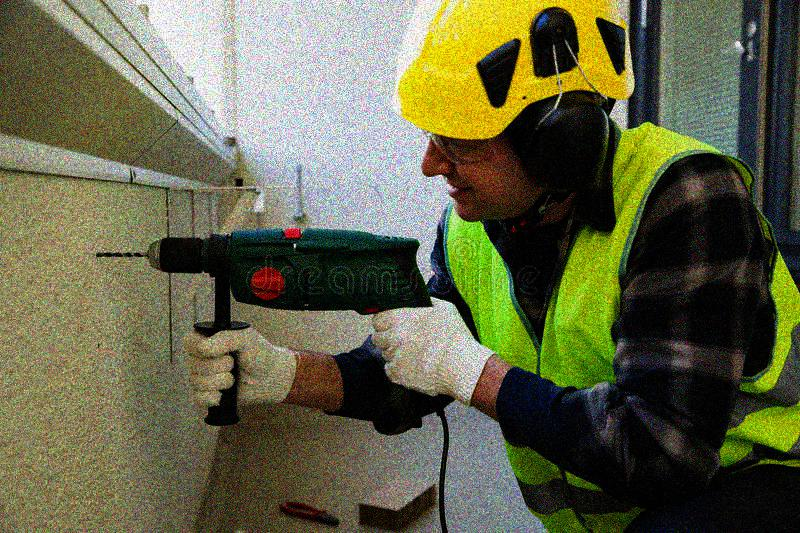helmet: (393, 1, 639, 230)
